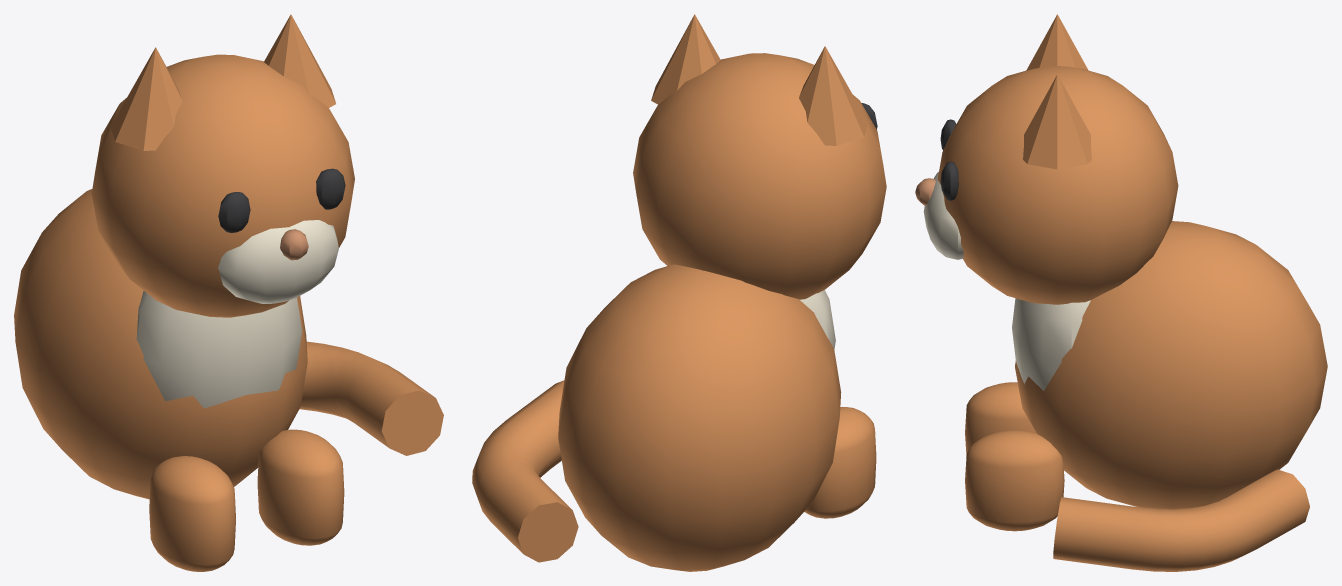
Rendered from cat.glb.
3 renders of one model, left to right at view 1: azimuth 30°, elevation 25°; view 2: azimuth 150°, elevation 25°; view 3: azimuth 270°, elevation 25°, orthographic. The views are drawn at different scales.
Visible parts, largest first — view 1: fur_ginger, cream, shoes, pot; view 2: fur_ginger, cream; view 3: fur_ginger, cream, shoes.
Part boxes in pixels (<box>): fur_ginger: <box>14,14,443,571</box>; cream: <box>136,220,338,408</box>; shoes: <box>218,168,345,232</box>; pot: <box>280,229,308,260</box>; fur_ginger: <box>472,14,886,571</box>; cream: <box>799,290,835,348</box>; fur_ginger: <box>937,14,1327,571</box>; cream: <box>923,172,1090,390</box>; shoes: <box>940,119,958,200</box>.
Size of the model in its own units: 0.2578 by 0.356 by 0.29.
